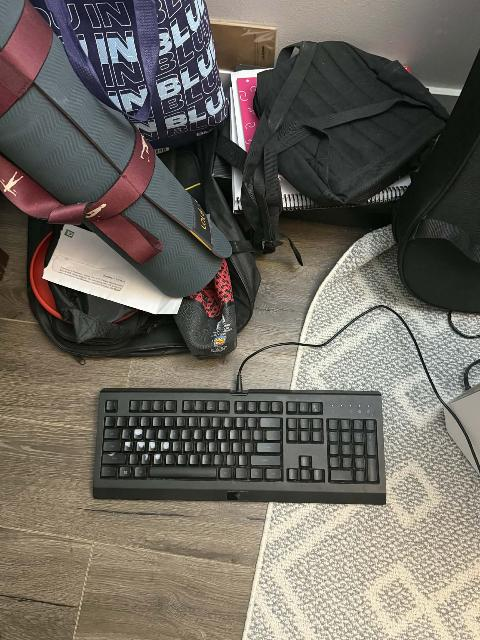ahkeyboard: (89, 380, 393, 510)
